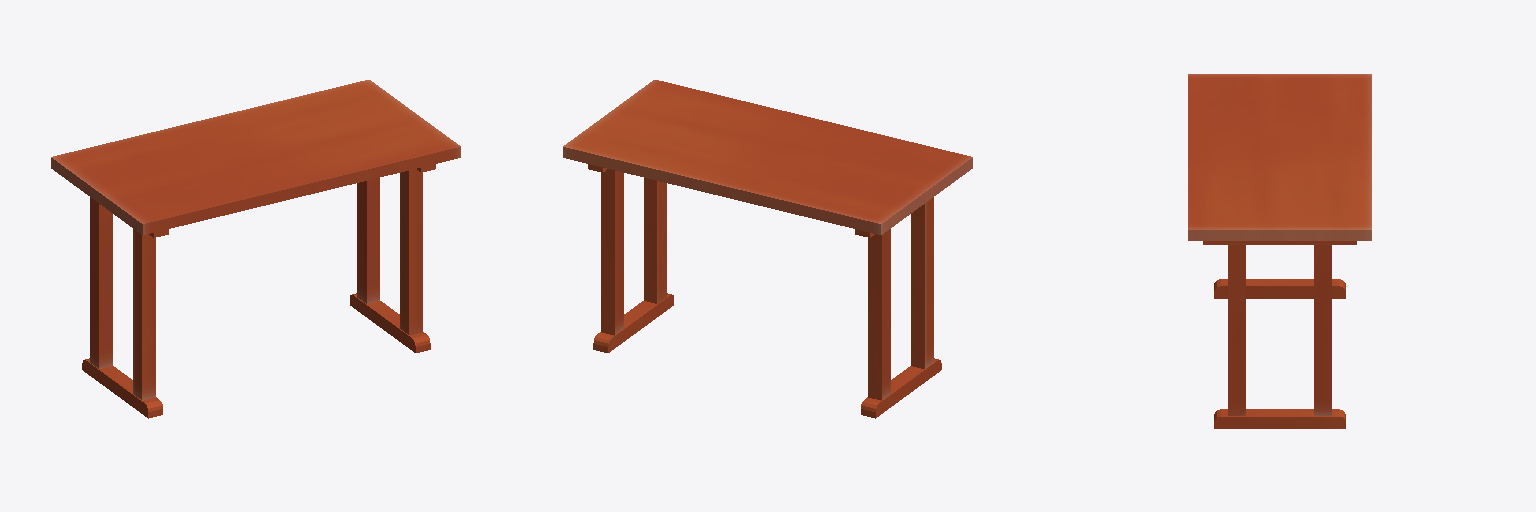
The picture shows the model from 3 angles: view 1: azimuth 30°, elevation 25°; view 2: azimuth 150°, elevation 25°; view 3: azimuth 270°, elevation 25°; orthographic projection.
Visible parts, largest first — view 1: _Table1:group1 group62 _Table1:pCube1, _Table1:group1 group62 _Table1:pCube11, _Table1:group1 group62 _Table1:pCube2, _Table1:group1 group62 _Table1:pCube12, _Table1:pCube3 _Table1:group1 group62, _Table1:group1 group62 _Table1:pCube13, _Table1:group1 group62 _Table1:pCube10; view 2: _Table1:group1 group62 _Table1:pCube1, _Table1:group1 group62 _Table1:pCube12, _Table1:pCube3 _Table1:group1 group62, _Table1:group1 group62 _Table1:pCube11, _Table1:group1 group62 _Table1:pCube2, _Table1:group1 group62 _Table1:pCube13, _Table1:group1 group62 _Table1:pCube10; view 3: _Table1:group1 group62 _Table1:pCube1, _Table1:pCube3 _Table1:group1 group62, _Table1:group1 group62 _Table1:pCube2, _Table1:group1 group62 _Table1:pCube10, _Table1:group1 group62 _Table1:pCube13, _Table1:group1 group62 _Table1:pCube8.
Boxes of the visible parts, x1,y1,x2,y2 form: _Table1:group1 group62 _Table1:pCube1: [51, 80, 460, 234]; _Table1:group1 group62 _Table1:pCube11: [133, 229, 155, 400]; _Table1:group1 group62 _Table1:pCube2: [400, 169, 422, 335]; _Table1:group1 group62 _Table1:pCube12: [90, 197, 112, 368]; _Table1:pCube3 _Table1:group1 group62: [357, 178, 379, 303]; _Table1:group1 group62 _Table1:pCube13: [82, 358, 162, 418]; _Table1:group1 group62 _Table1:pCube10: [350, 293, 430, 352]; _Table1:group1 group62 _Table1:pCube1: [563, 80, 972, 234]; _Table1:group1 group62 _Table1:pCube12: [868, 229, 890, 400]; _Table1:pCube3 _Table1:group1 group62: [601, 169, 623, 335]; _Table1:group1 group62 _Table1:pCube11: [911, 197, 933, 368]; _Table1:group1 group62 _Table1:pCube2: [644, 178, 666, 303]; _Table1:group1 group62 _Table1:pCube13: [861, 358, 941, 418]; _Table1:group1 group62 _Table1:pCube10: [593, 293, 673, 352]; _Table1:group1 group62 _Table1:pCube1: [1188, 74, 1371, 240]; _Table1:pCube3 _Table1:group1 group62: [1314, 245, 1331, 415]; _Table1:group1 group62 _Table1:pCube2: [1228, 245, 1245, 415]; _Table1:group1 group62 _Table1:pCube10: [1214, 409, 1345, 428]; _Table1:group1 group62 _Table1:pCube13: [1214, 279, 1345, 298]; _Table1:group1 group62 _Table1:pCube8: [1203, 241, 1356, 244].
Bounding box in the file's own units: 120 × 75 × 60.
Materials: 1 (1 with a texture image).